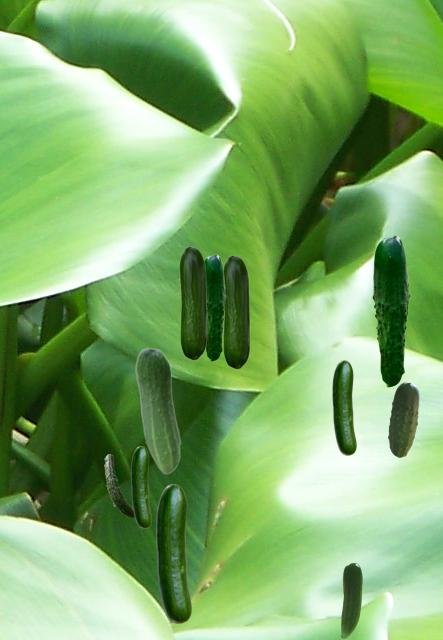cucumber: (135, 347, 180, 473), (372, 235, 409, 386), (156, 484, 190, 622), (179, 246, 206, 359), (223, 255, 249, 368), (388, 382, 418, 456), (332, 360, 355, 454), (205, 254, 225, 360), (104, 454, 133, 516), (131, 446, 150, 527), (341, 563, 361, 637)
